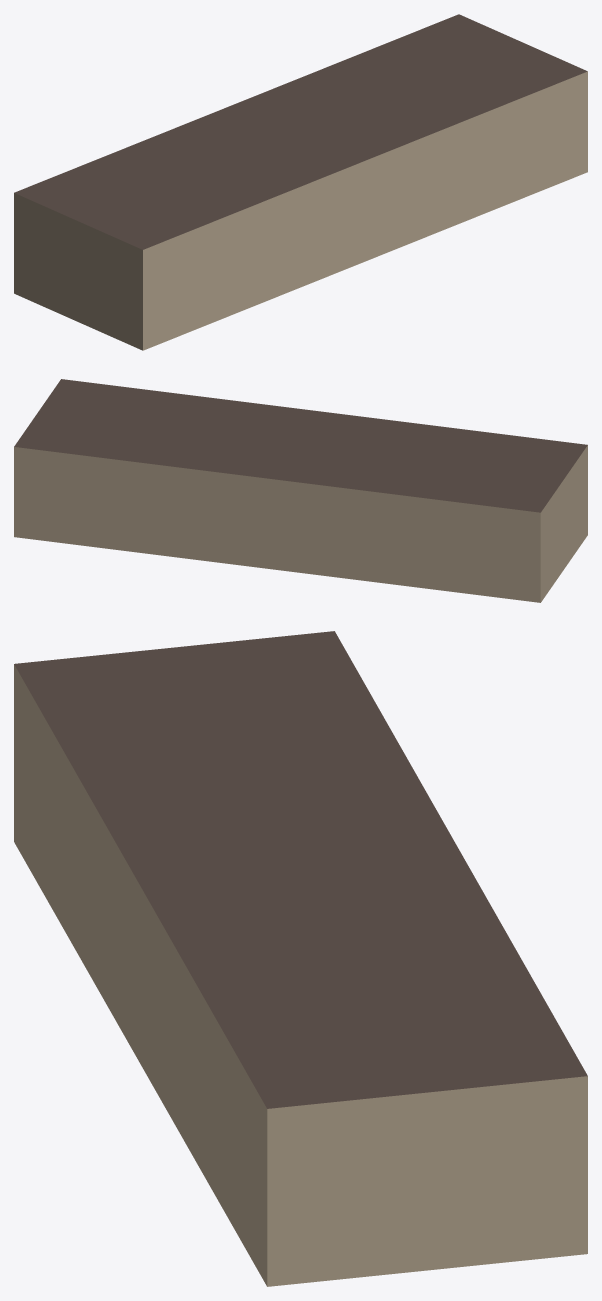
3 renders of one model, top to bottom at view 1: azimuth 30°, elevation 25°; view 2: azimuth 150°, elevation 25°; view 3: azimuth 270°, elevation 25°, orthographic. The views are drawn at different scales.
Parts seen in each view (by area): view 1: HP-w299010069; view 2: HP-w299010069; view 3: HP-w299010069.
Boxes of the visible parts, <box> form: HP-w299010069: <box>14,14,587,350</box>; HP-w299010069: <box>14,379,587,602</box>; HP-w299010069: <box>14,631,587,1286</box>.
Bounding box in the file's own units: 51.83 × 9 × 26.31.
